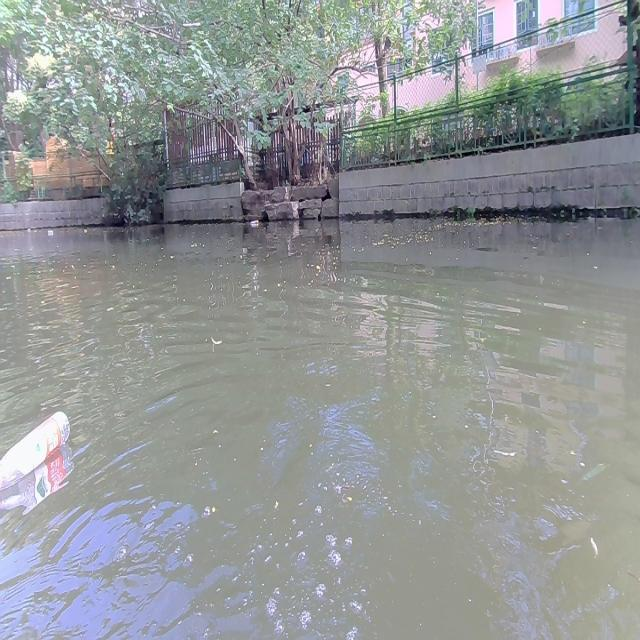bottle: (0, 414, 73, 480)
